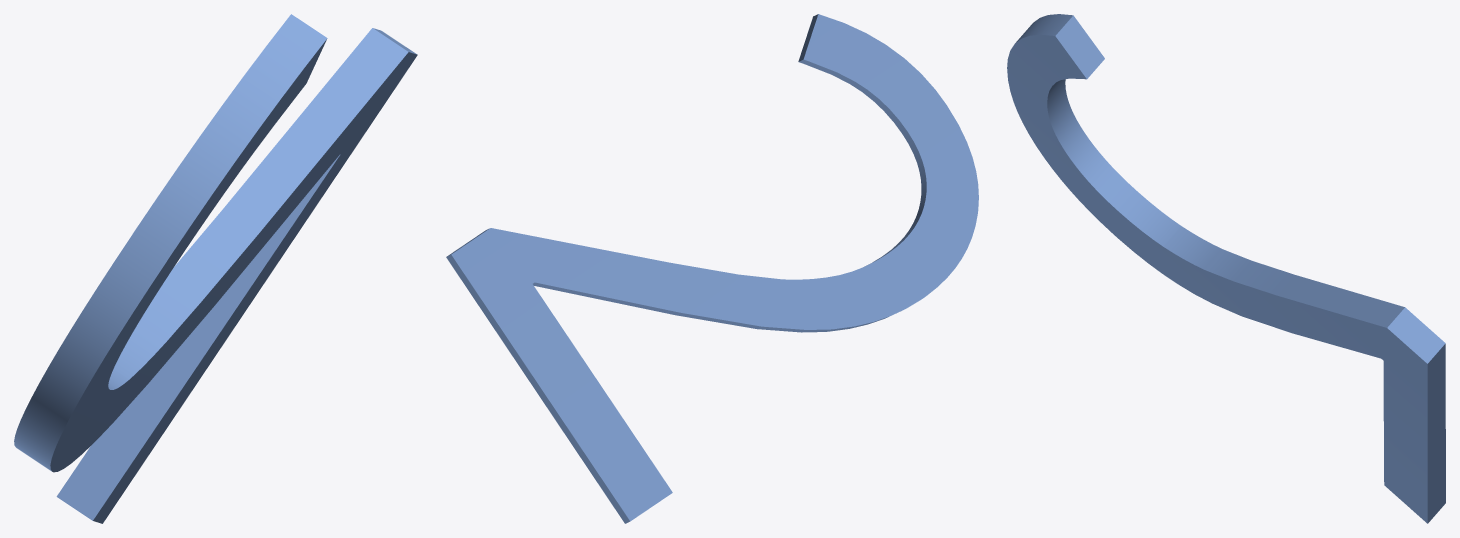
Rendered from New_Number_2.gltf.
The picture shows the model from 3 angles, left to right: view 1: azimuth 30°, elevation 25°; view 2: azimuth 150°, elevation 25°; view 3: azimuth 270°, elevation 25°; orthographic projection. The views are drawn at different scales.
Visible parts, largest first — view 1: Part 353; view 2: Part 353; view 3: Part 353.
Boxes of the visible parts, x1,y1,x2,y2 form: Part 353: (14, 14, 417, 523); Part 353: (446, 14, 978, 523); Part 353: (1007, 14, 1445, 523).
Bounding box in the file's own units: 0.00446 × 0.00466 × 0.00383.
